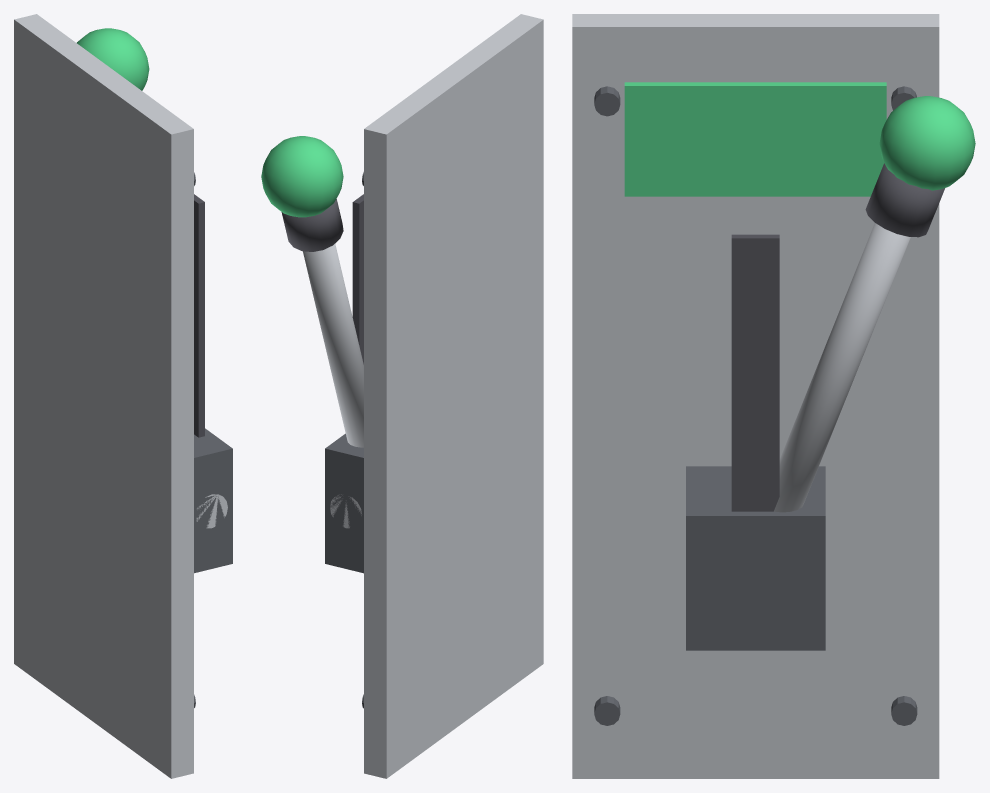
File: OpenShiftLever.fbx
3 renders of one model, left to right at view 1: azimuth 30°, elevation 25°; view 2: azimuth 150°, elevation 25°; view 3: azimuth 270°, elevation 25°, orthographic. The views are drawn at different scales.
Visible parts, largest first — view 1: OpenShiftLever_WallPlate, OpenShiftLever_Housing, OpenShiftLever_Guide, OpenShiftLever_Grip, OpenShiftLever_Pin; view 2: OpenShiftLever_WallPlate, OpenShiftLever_Arm, OpenShiftLever_Grip, OpenShiftLever_Housing, OpenShiftLever_Collar, OpenShiftLever_Guide; view 3: OpenShiftLever_WallPlate, OpenShiftLever_Sign, OpenShiftLever_Housing, OpenShiftLever_Guide, OpenShiftLever_Arm, OpenShiftLever_Grip, OpenShiftLever_Collar.
Part boxes in pixels (x1,y1,x2,y2): OpenShiftLever_WallPlate: [14, 14, 193, 778]; OpenShiftLever_Housing: [194, 428, 232, 573]; OpenShiftLever_Guide: [194, 194, 204, 437]; OpenShiftLever_Grip: [77, 28, 149, 90]; OpenShiftLever_Pin: [196, 494, 227, 528]; OpenShiftLever_WallPlate: [364, 14, 543, 778]; OpenShiftLever_Arm: [303, 244, 363, 447]; OpenShiftLever_Grip: [261, 136, 343, 217]; OpenShiftLever_Housing: [325, 433, 363, 573]; OpenShiftLever_Collar: [281, 199, 343, 251]; OpenShiftLever_Guide: [352, 194, 363, 364]; OpenShiftLever_WallPlate: [572, 14, 939, 778]; OpenShiftLever_Sign: [624, 82, 886, 196]; OpenShiftLever_Housing: [686, 466, 825, 650]; OpenShiftLever_Guide: [731, 234, 779, 511]; OpenShiftLever_Arm: [774, 223, 910, 512]; OpenShiftLever_Grip: [879, 96, 975, 190]; OpenShiftLever_Collar: [865, 163, 944, 237].
Bounding box in the file's own units: 38.33 × 190 × 92.33.
